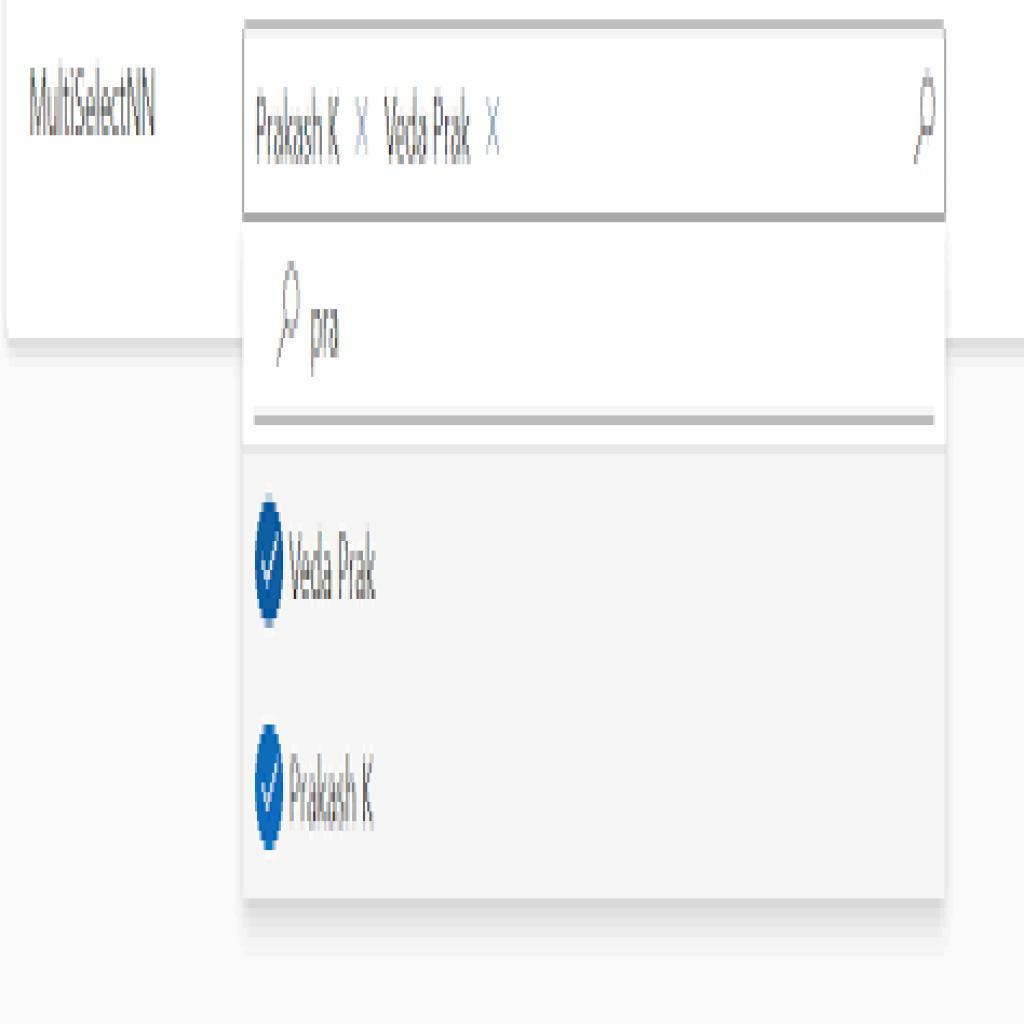checkbox: (250, 495, 289, 632), (257, 721, 286, 858)
icon: (265, 262, 302, 370), (909, 59, 943, 176)
input: (243, 21, 947, 224)
label: (290, 527, 384, 609), (289, 751, 380, 832)
